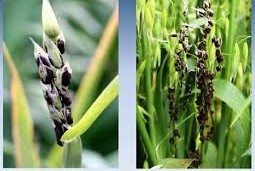Wheat Loose Smut: (169, 25, 219, 140)
